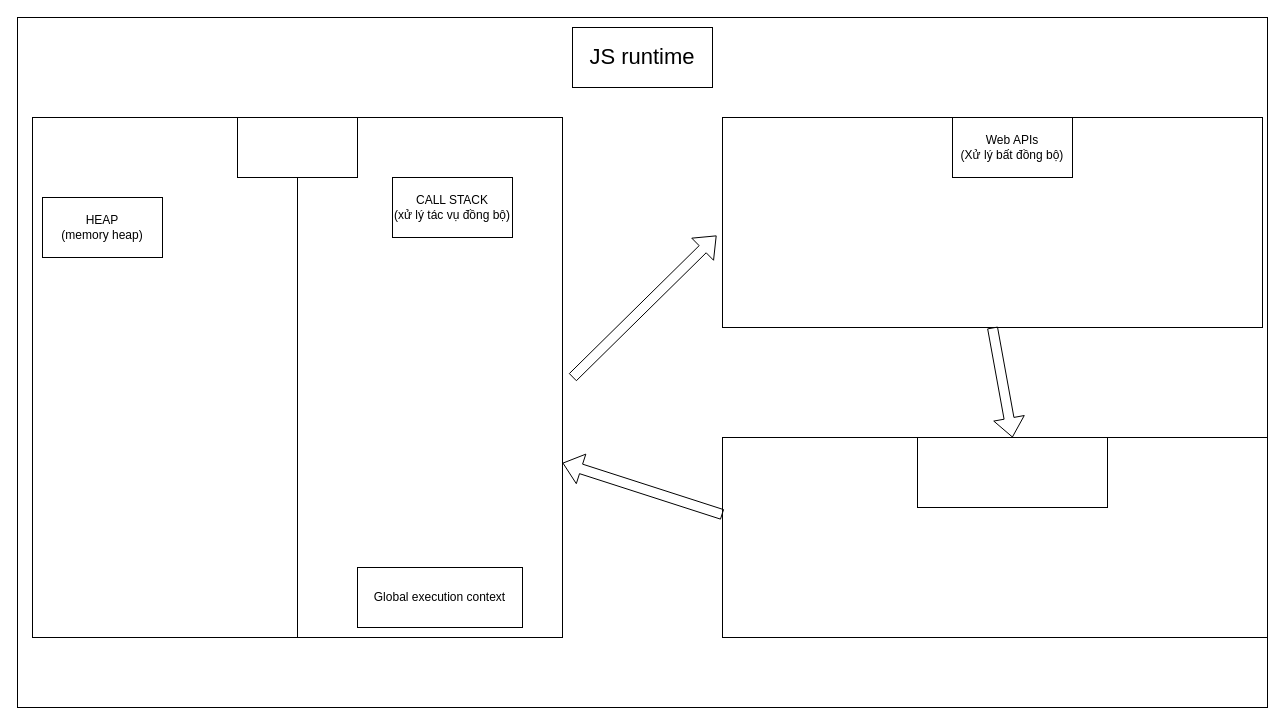
The diagram is 1285 pixels wide and 725 high, and some of its shapes have lost their labels. The shapes that lost their labels are listed below. From the top down, each one's box as (x1, y1, x2, y2) in pixels, then its label:
(236, 116, 358, 178): JS engine
(916, 436, 1108, 508): CALLBACK QUEUE
